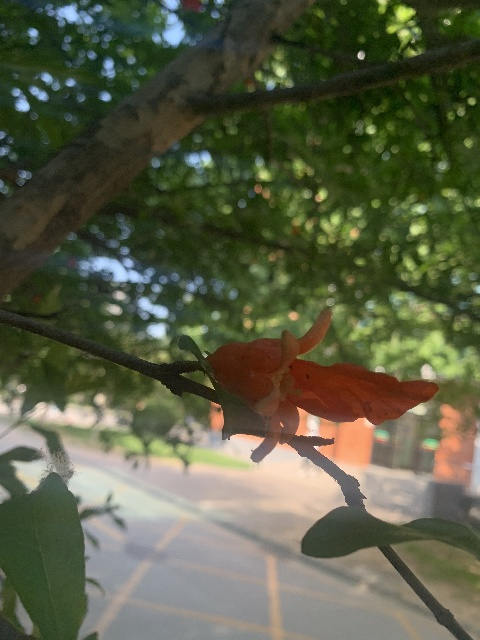flower: (206, 311, 440, 473)
